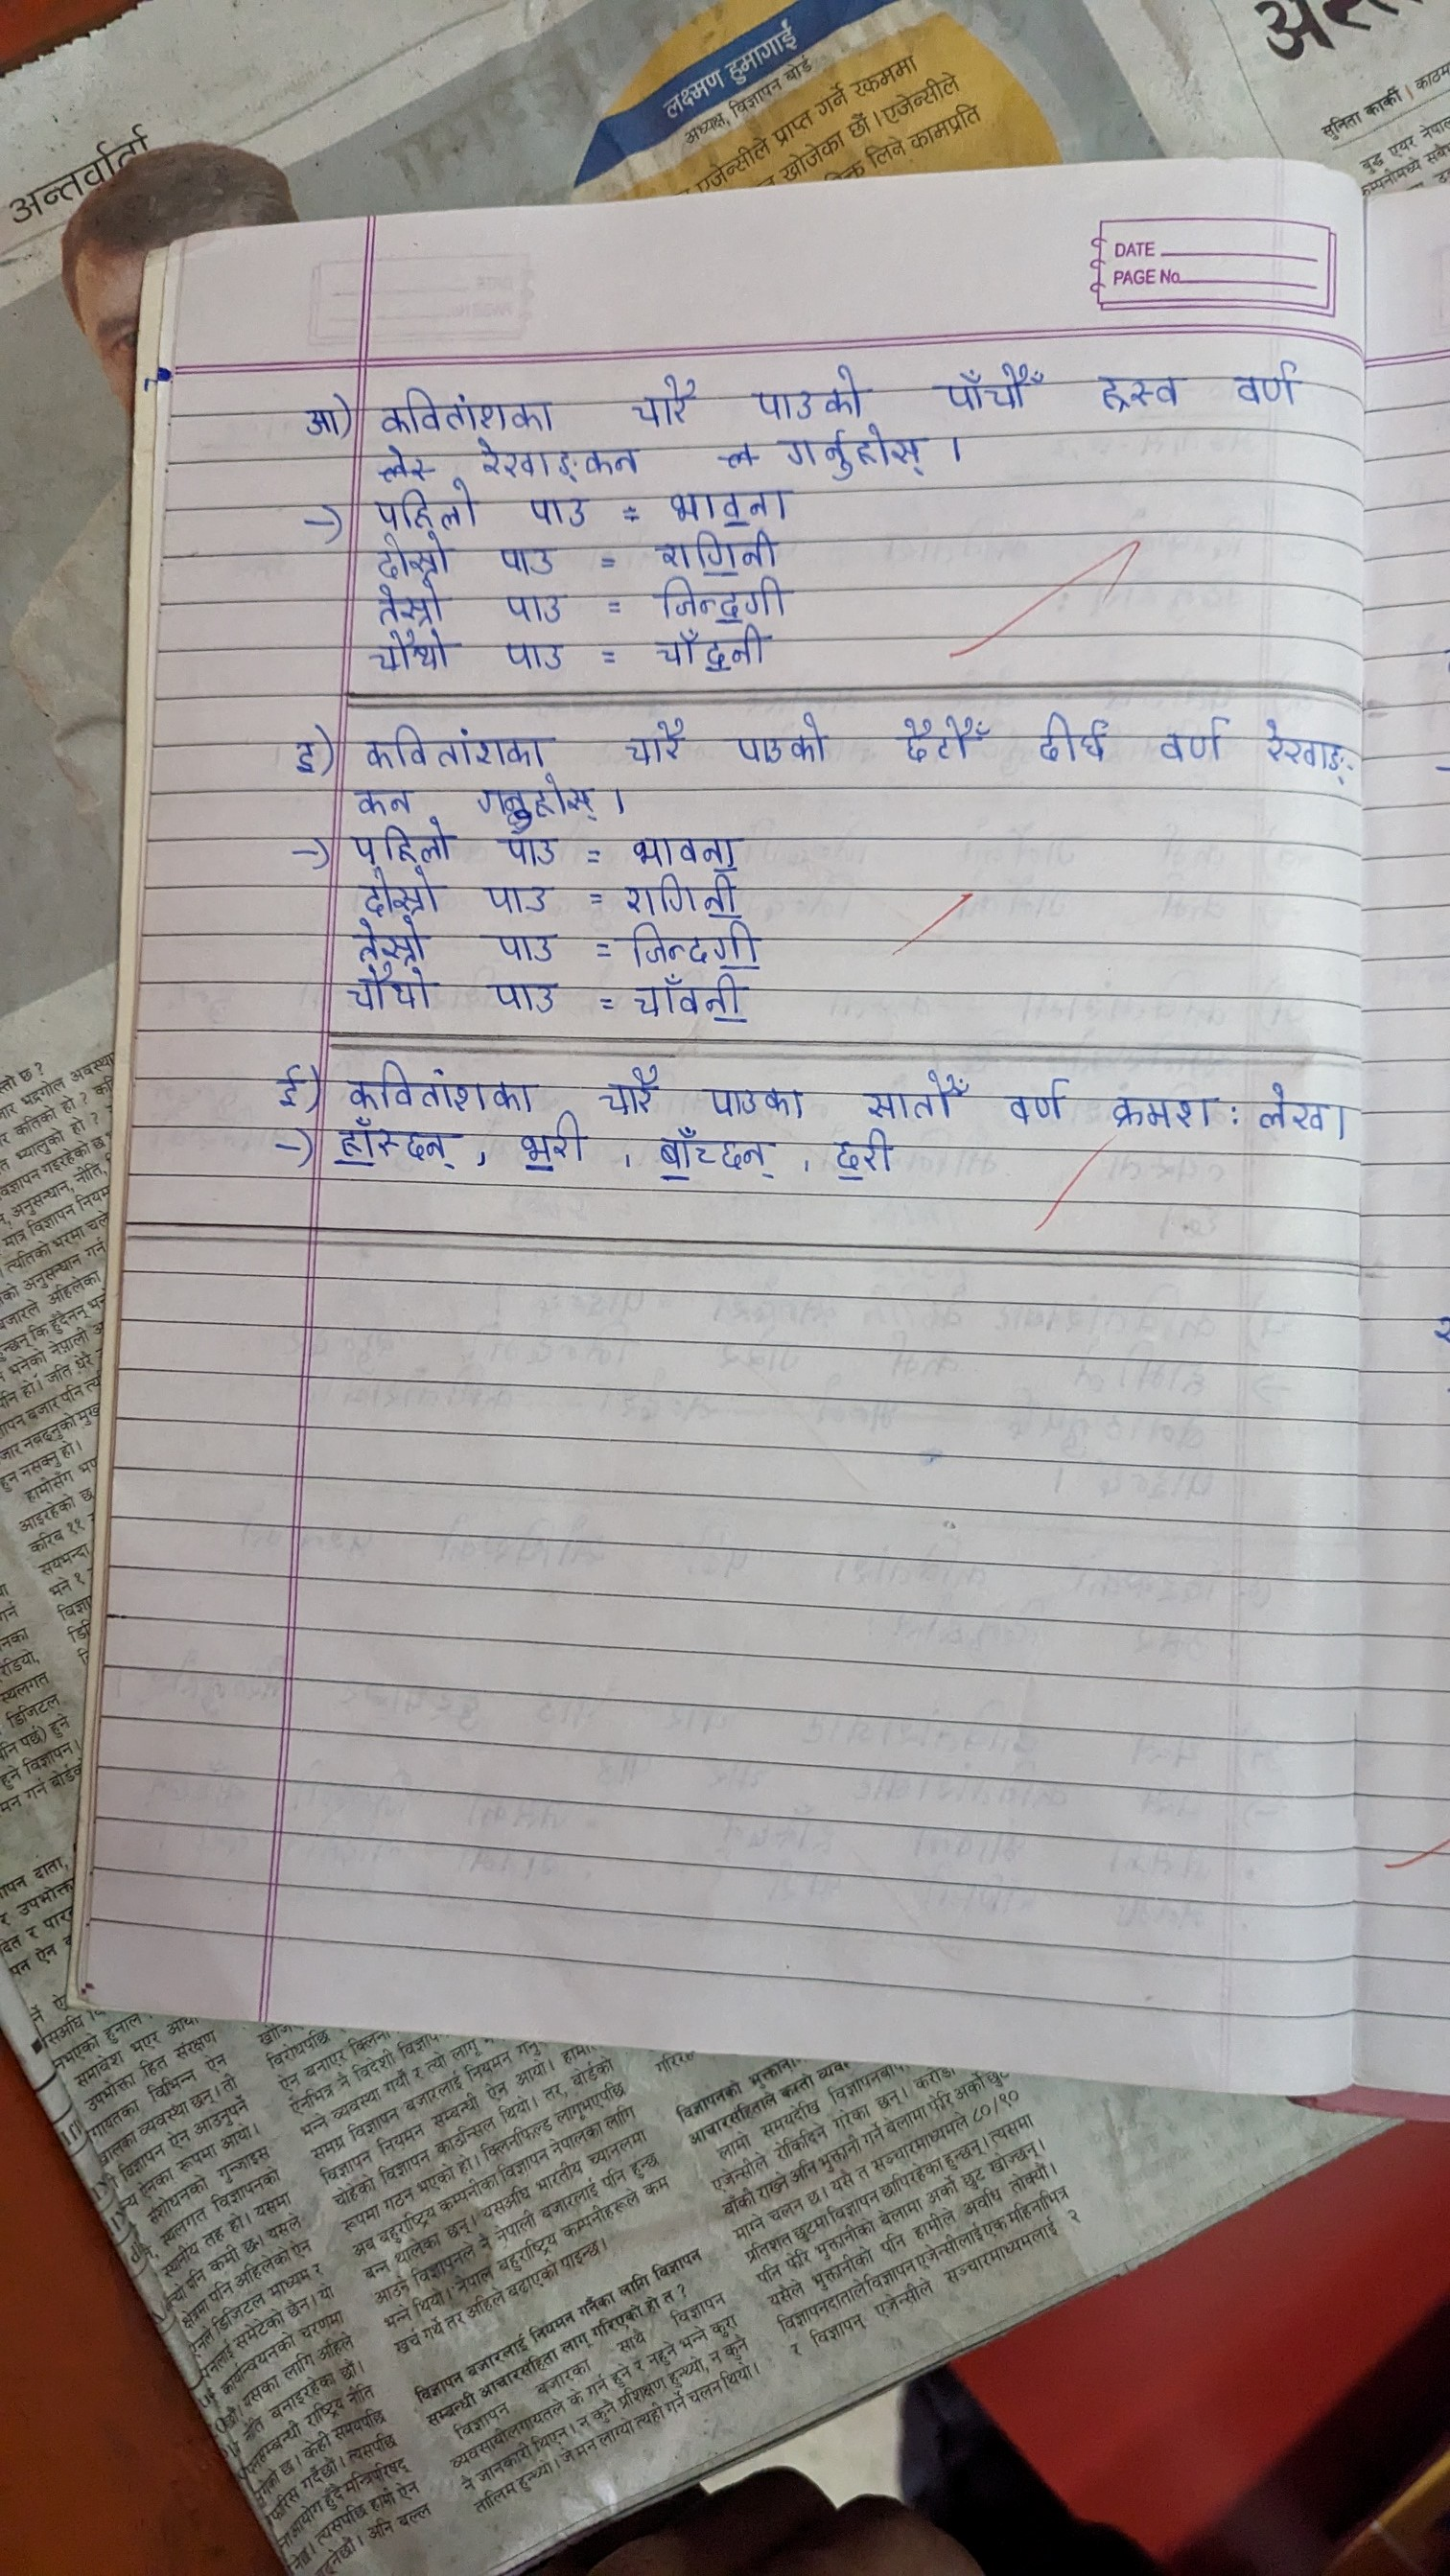text: (329, 1060, 540, 1115), (374, 380, 558, 433), (354, 717, 547, 766), (768, 426, 931, 478), (467, 439, 646, 483), (609, 922, 770, 968), (740, 363, 869, 416), (648, 580, 800, 625), (1259, 713, 1353, 784), (648, 1129, 775, 1178), (868, 1065, 970, 1125), (629, 975, 756, 1023), (625, 821, 744, 872), (699, 1072, 811, 1125), (329, 1118, 453, 1166), (929, 363, 1041, 414), (471, 780, 595, 824), (728, 715, 836, 764), (643, 632, 768, 674), (616, 876, 742, 918), (650, 533, 793, 570), (1103, 1085, 1213, 1132), (620, 370, 705, 430), (374, 487, 483, 533), (1154, 702, 1229, 770), (1089, 368, 1192, 414), (662, 488, 791, 524), (1257, 1077, 1331, 1138), (512, 1118, 593, 1173), (361, 632, 457, 678), (340, 968, 432, 1016), (1000, 1067, 1069, 1131), (892, 711, 977, 763), (349, 823, 450, 865), (593, 1062, 669, 1116), (1039, 713, 1108, 770), (613, 717, 690, 766), (1232, 364, 1307, 416), (375, 580, 455, 628), (354, 922, 430, 968), (361, 869, 436, 913), (827, 1129, 894, 1175), (374, 540, 460, 575), (489, 924, 559, 966), (474, 879, 554, 915), (526, 488, 595, 527), (487, 971, 552, 1012), (283, 720, 326, 782), (499, 589, 570, 625), (496, 639, 577, 669), (296, 402, 351, 444), (499, 540, 559, 577), (266, 1056, 306, 1106), (497, 833, 559, 865), (352, 789, 418, 816)
